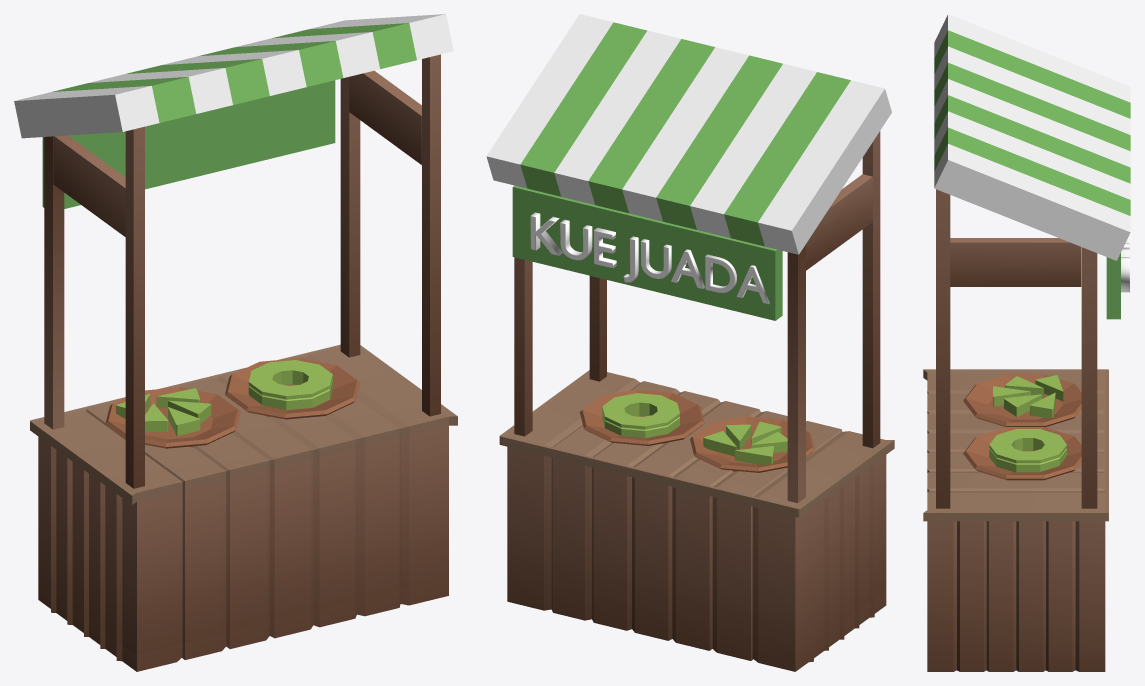
Rendered from Tenant Kue Juada.fbx.
3 renders of one model, left to right at view 1: azimuth 30°, elevation 25°; view 2: azimuth 150°, elevation 25°; view 3: azimuth 270°, elevation 25°, orthographic. The views are drawn at different scales.
Visible parts, largest first — view 1: Cube.001; view 2: Cube.001; view 3: Cube.001.
Boxes of the visible parts, x1,y1,x2,y2 form: Cube.001: (14, 14, 457, 671); Cube.001: (486, 14, 894, 671); Cube.001: (923, 14, 1130, 671).
Size of the model in its own units: 425 by 701 by 255.
